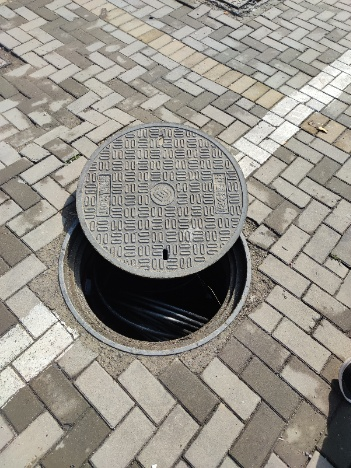well: (58, 119, 254, 354)
